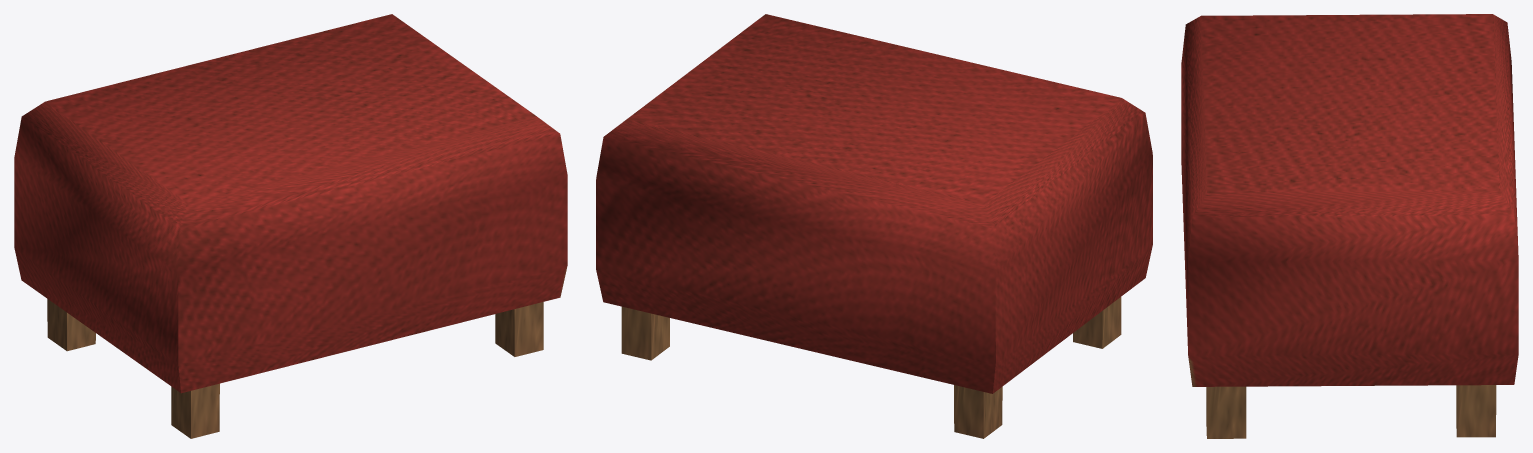
The model's file is Footrest.fbx.
3 views of the same model, side by side, from view 1: azimuth 30°, elevation 25°; view 2: azimuth 150°, elevation 25°; view 3: azimuth 270°, elevation 25° (orthographic). The views are drawn at different scales.
Parts seen in each view (by area): view 1: Footrest; view 2: Footrest; view 3: Footrest.
Boxes of the visible parts, x1=… form: Footrest: x1=14, y1=14, x2=567, y2=438; Footrest: x1=596, y1=14, x2=1152, y2=438; Footrest: x1=1181, y1=14, x2=1518, y2=438.
Bounding box in the file's own units: 0.5622 × 0.3182 × 0.4003.
